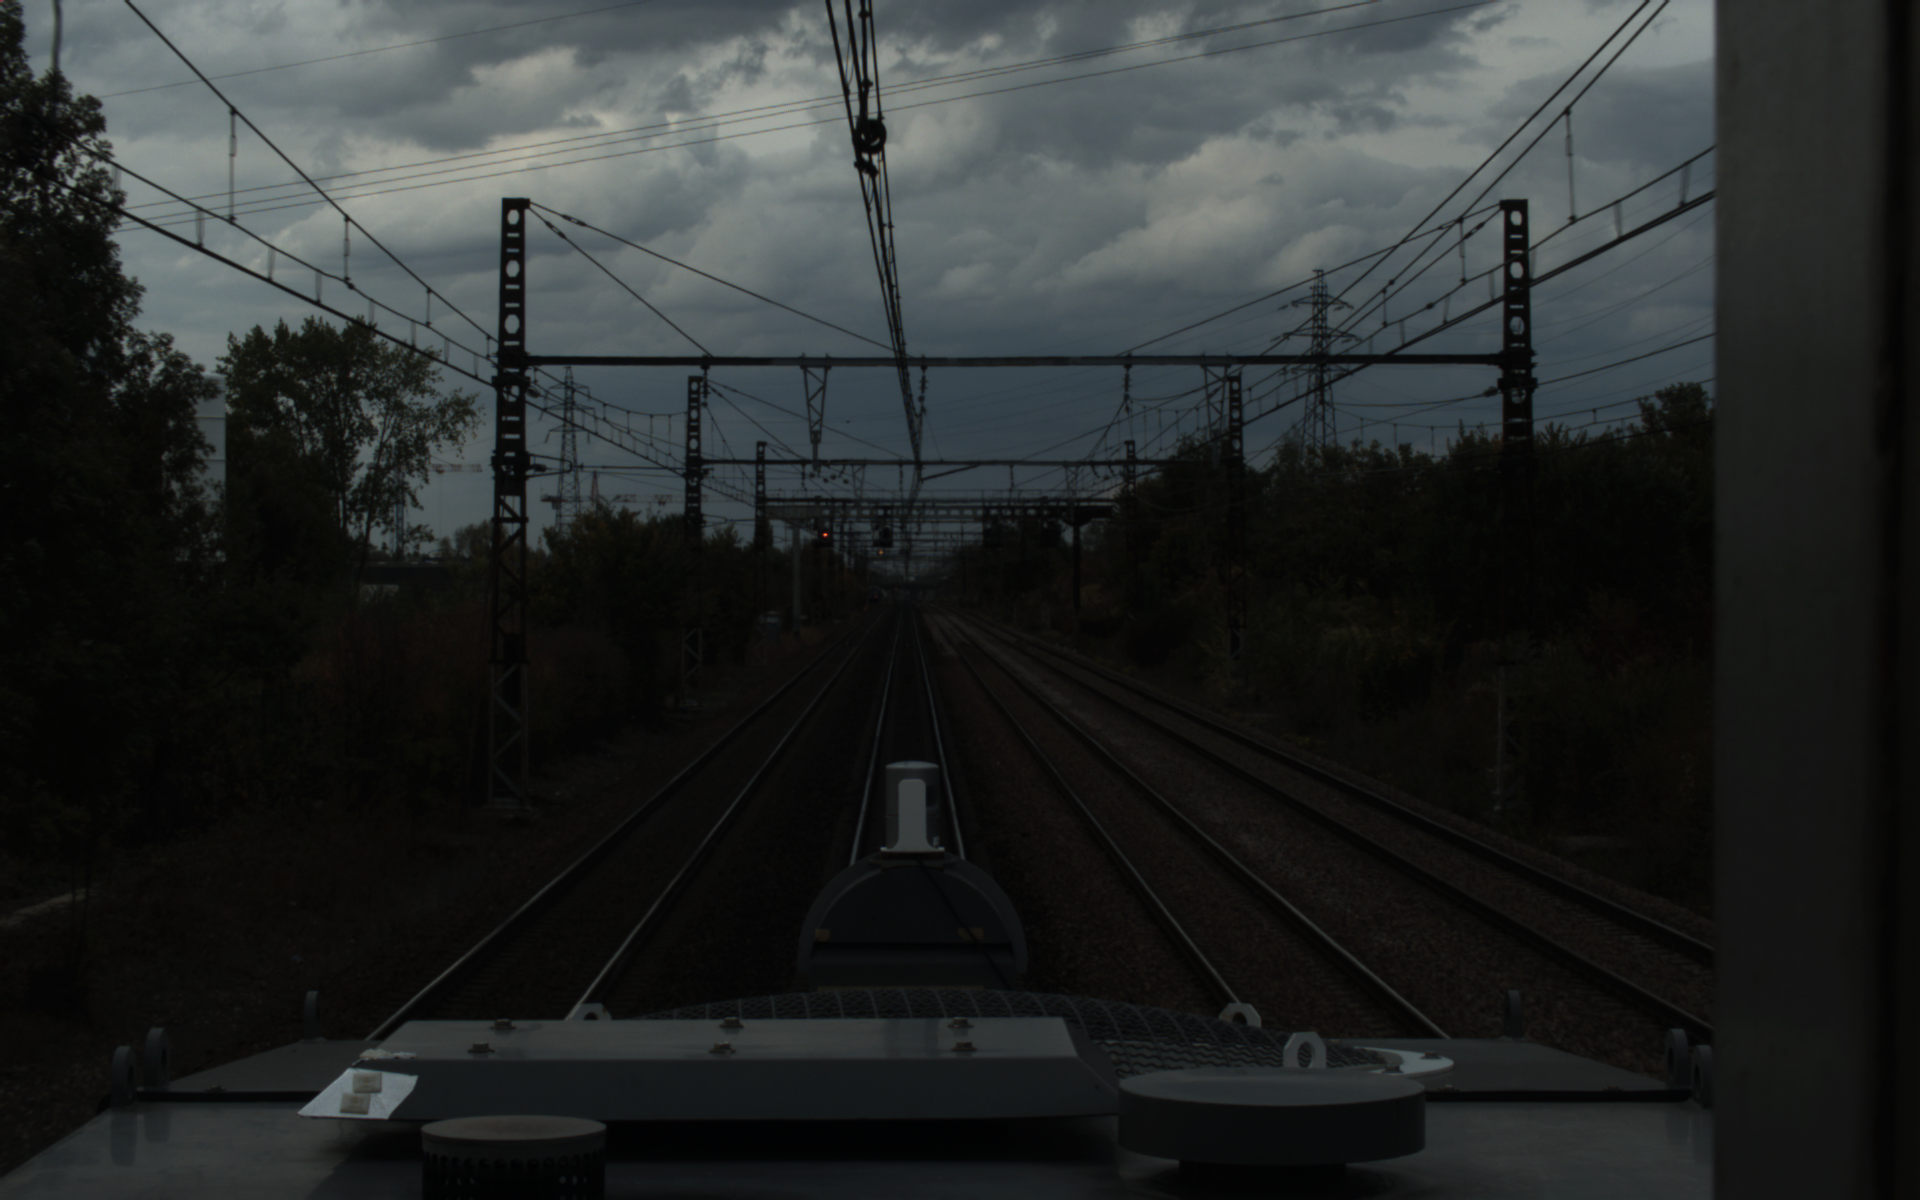Blinking: (876, 525, 892, 543)
Fixed: (817, 525, 834, 546)
